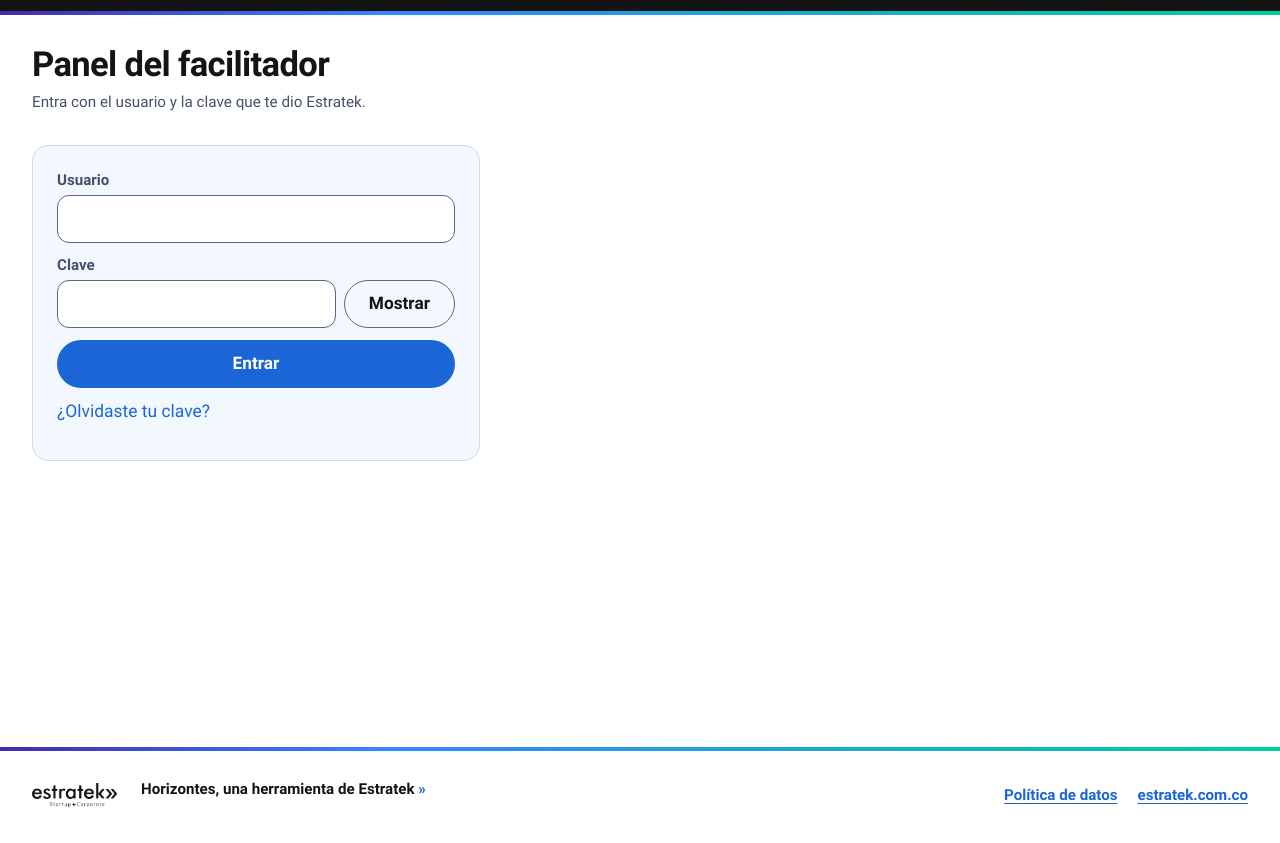
Test: Sala en vivo › F-5: si la sesión vence en medio del taller, el panel lleva al login y lo explica
Type "paola" into the field labelled "Usuario". click: [256, 219]
box: [57, 195, 455, 243]
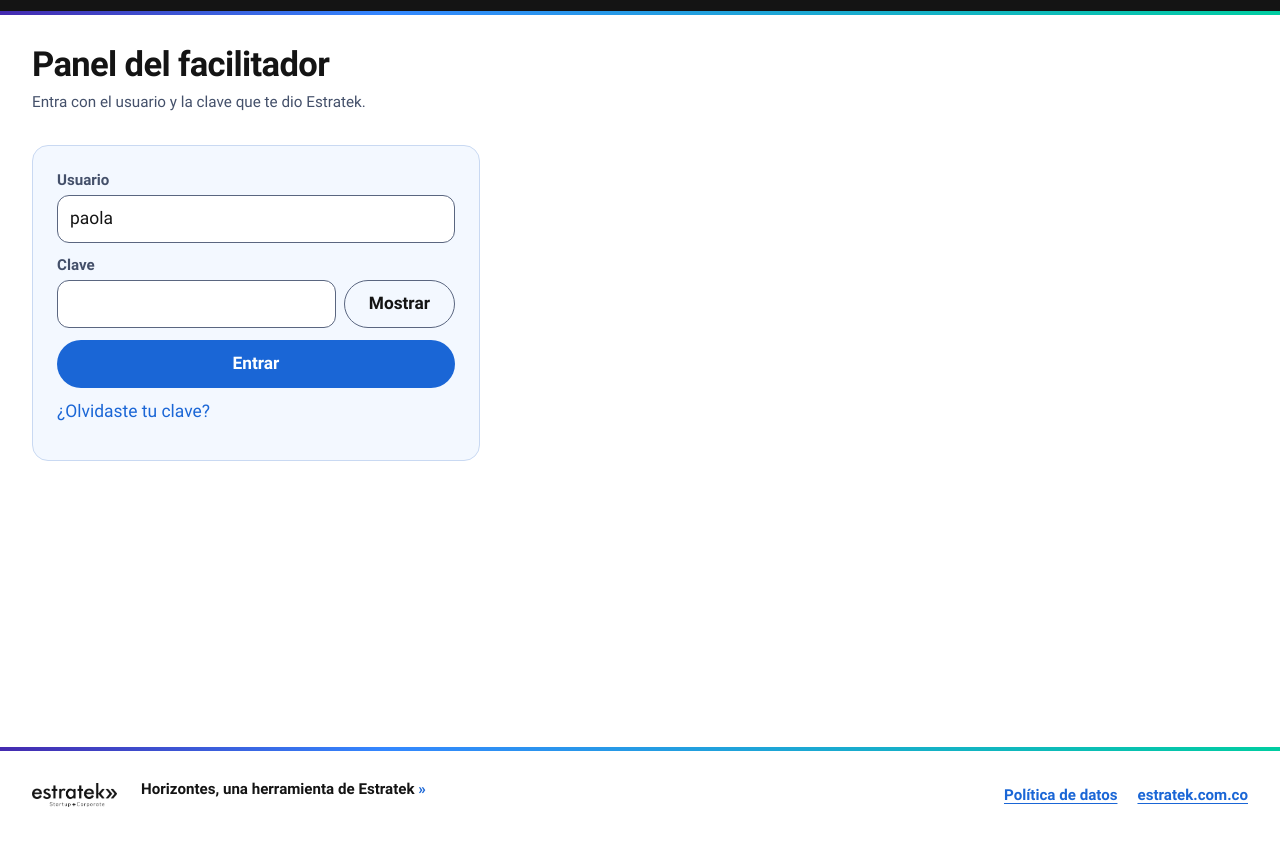
Type "demo1234" into the password field labelled "Clave". click: [196, 304]
box: [57, 280, 336, 328]
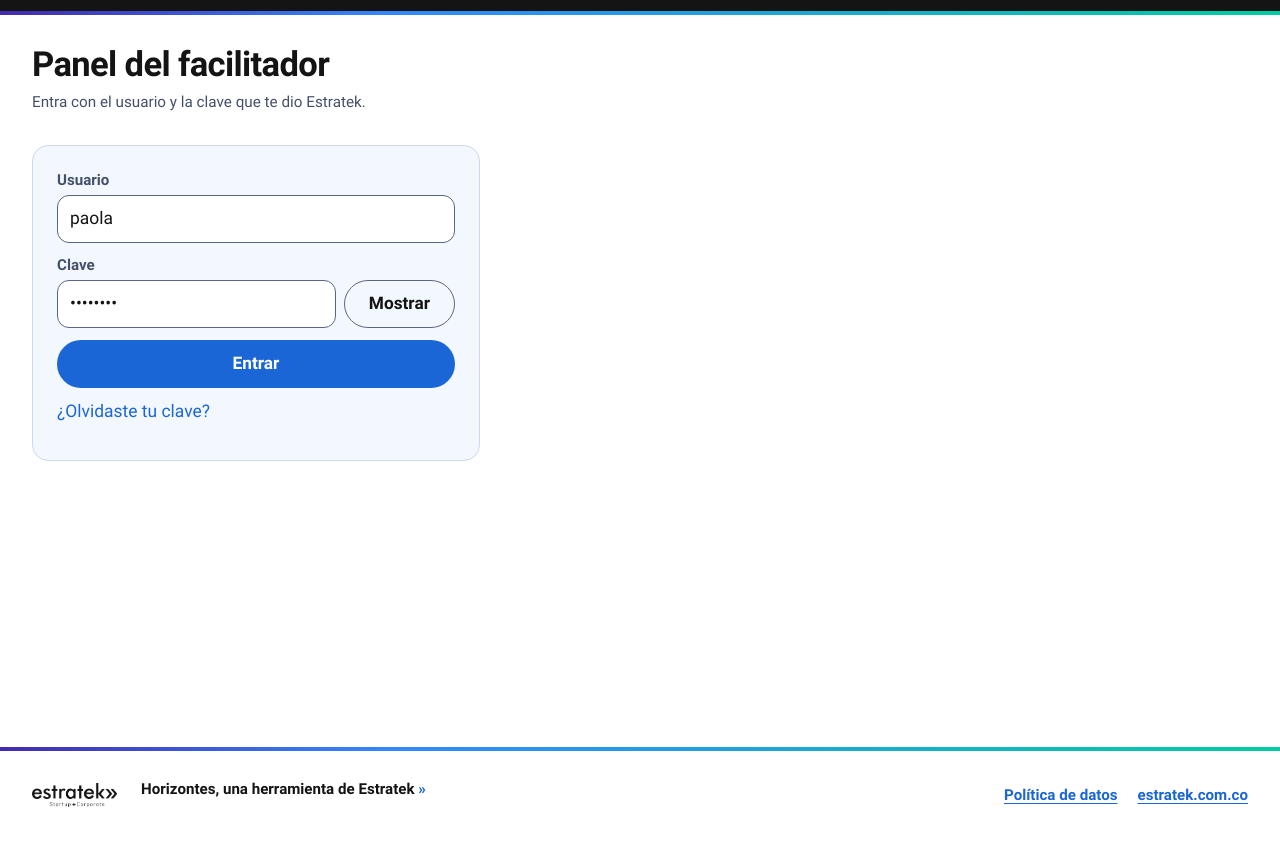
Click the button "Entrar". click: [256, 364]
box: [57, 340, 455, 388]
(page scrolled)
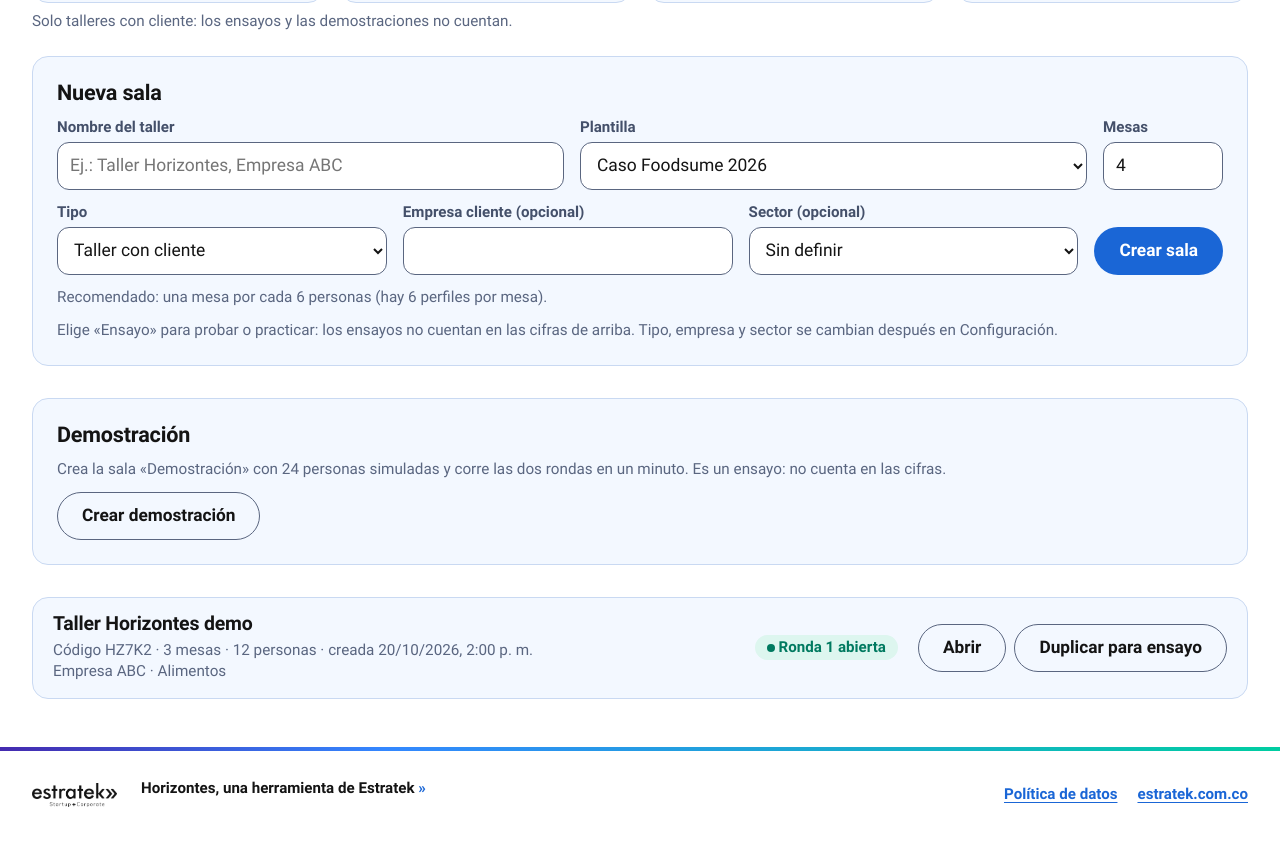
Click the link "Abrir". click: [962, 648]
box: [918, 624, 1006, 672]
(page scrolled)
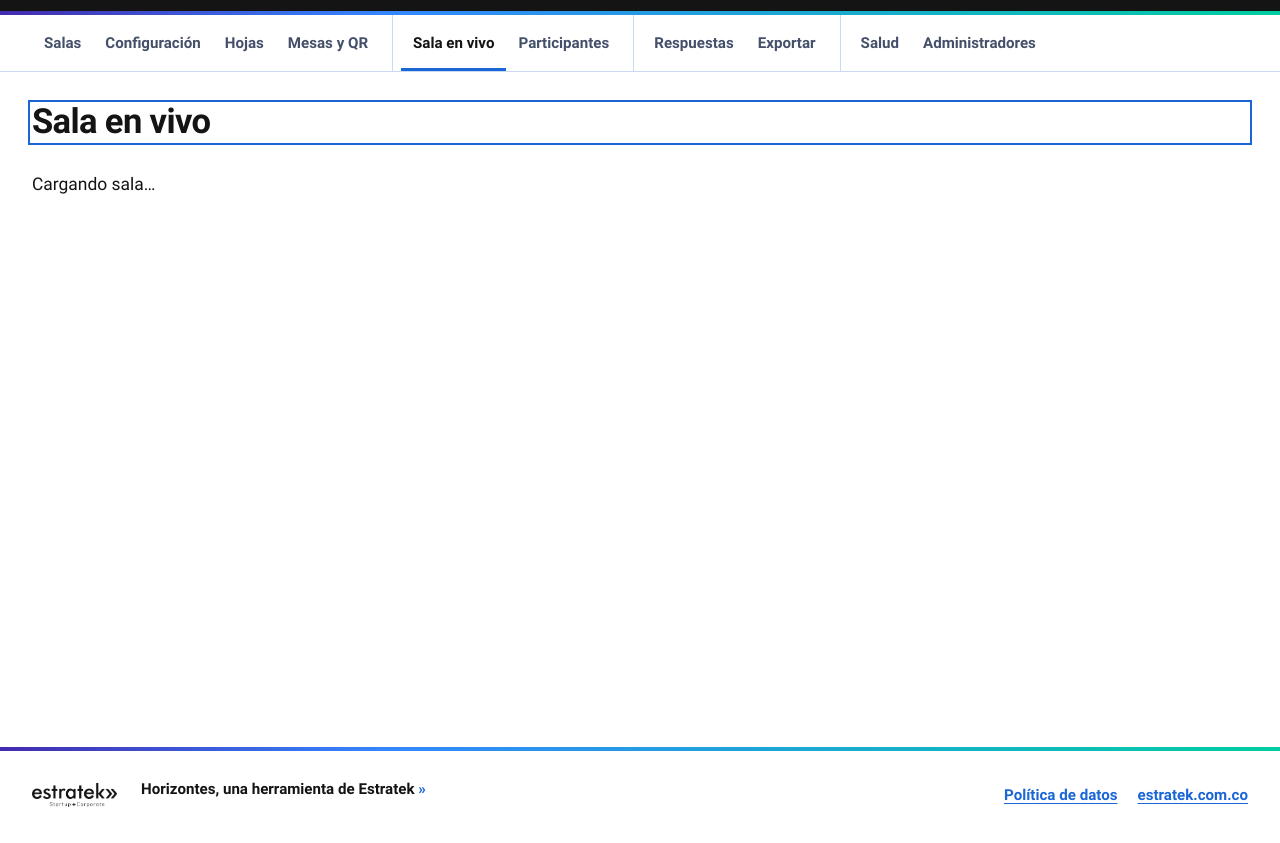
Now the heading "Sala en vivo" is shown, box [32, 102, 210, 141]
Click the link "Participantes". click: [564, 43]
box: [506, 15, 621, 71]
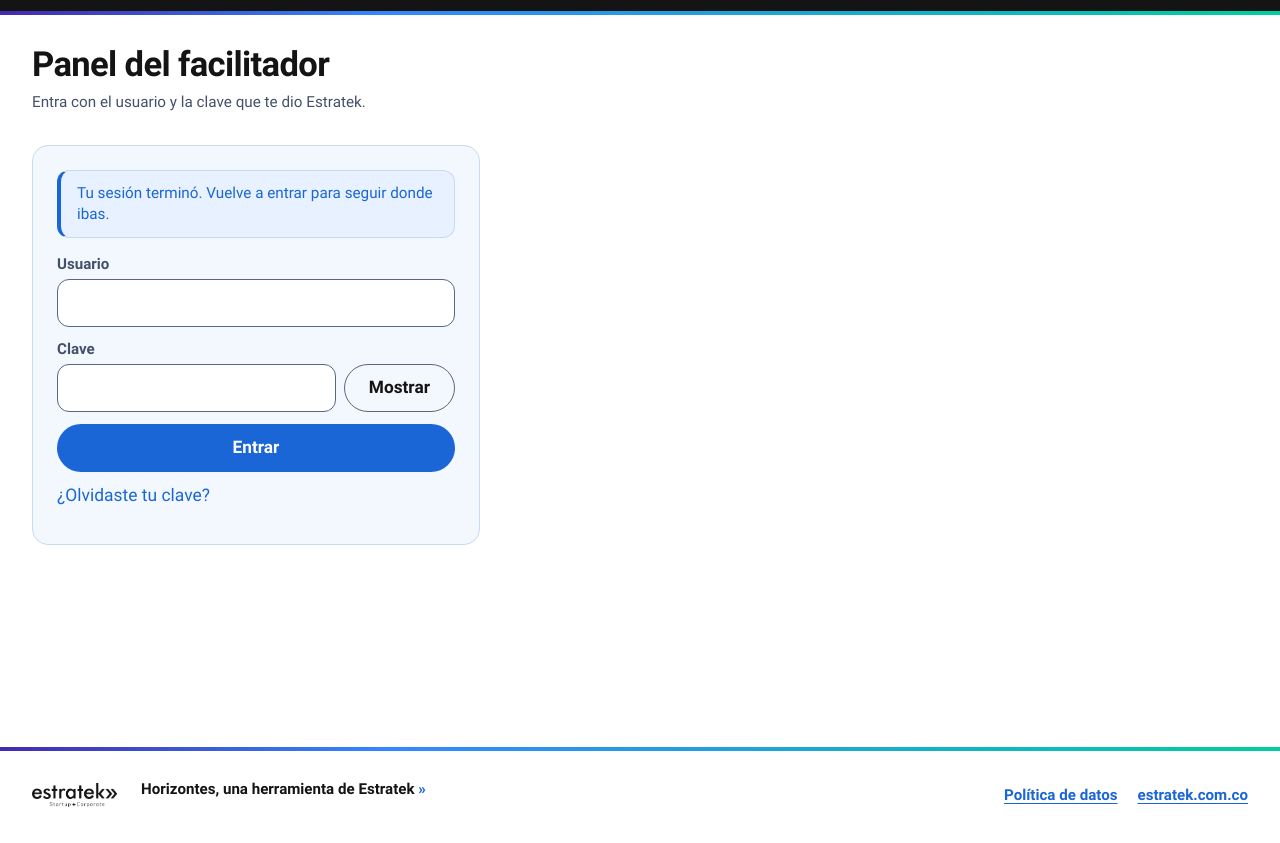
Now the heading "Panel del facilitador" is shown, box [32, 45, 329, 84]
Now the text "Tu sesión terminó. Vuelve a entrar para seguir donde ibas." is shown, box [57, 170, 455, 238]
